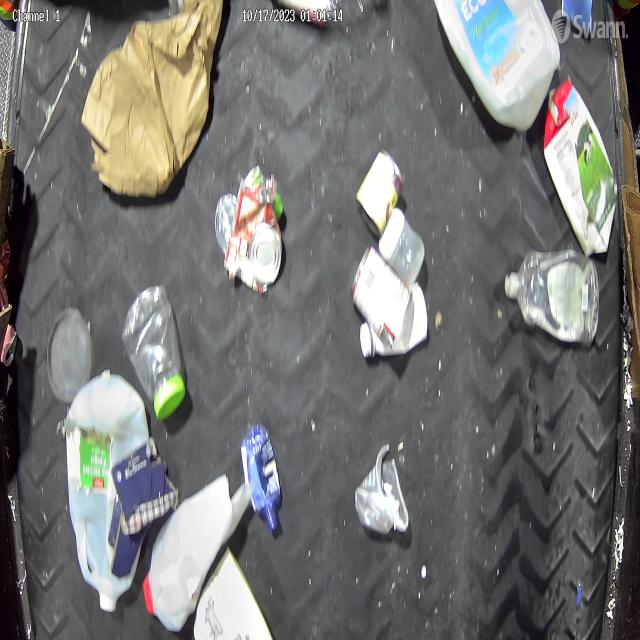can: (236, 199, 282, 290), (357, 149, 405, 236)
milk_jug: (67, 373, 150, 611), (430, 2, 563, 128), (143, 474, 233, 630)
non_white_jug: (543, 81, 618, 255)
plastic_bottle: (504, 249, 598, 345)
